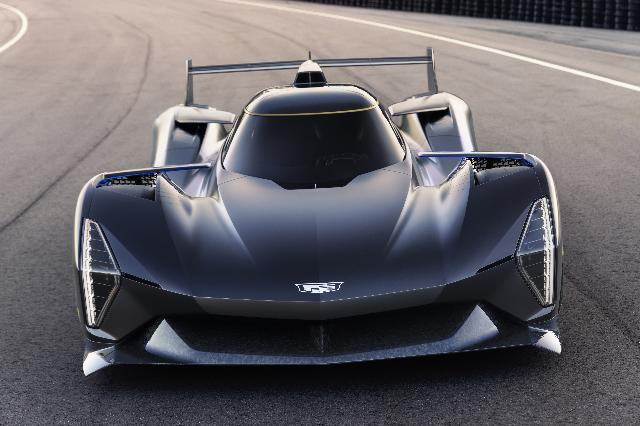cadillac: (72, 47, 564, 379)
